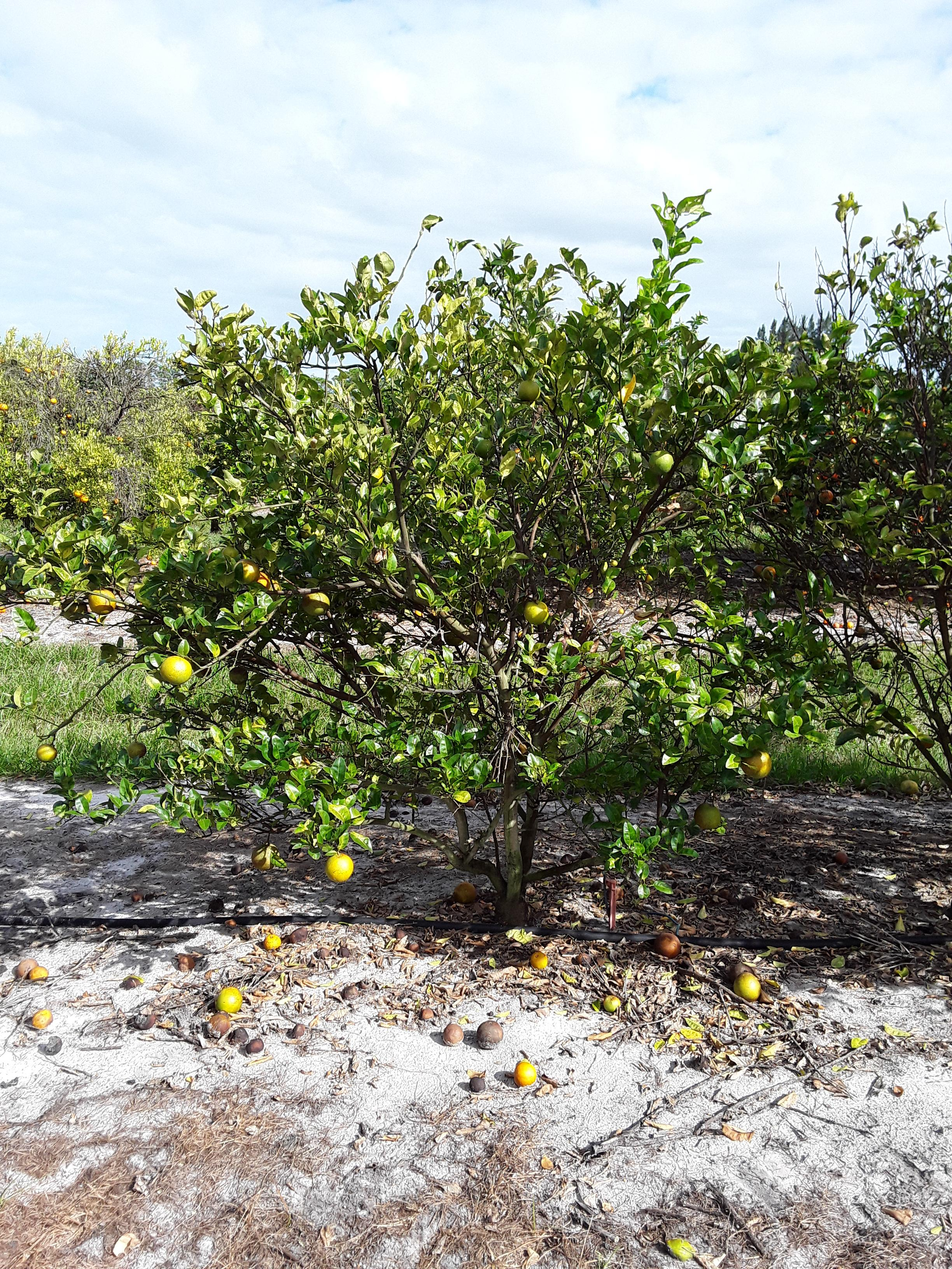fruit_on_ground: (323, 849, 359, 885), (691, 797, 725, 834), (161, 650, 190, 689), (298, 588, 332, 618), (742, 745, 771, 780), (87, 586, 119, 617), (520, 596, 552, 626), (248, 845, 278, 874), (646, 449, 677, 477), (261, 572, 284, 607), (513, 380, 544, 404), (225, 663, 254, 686), (252, 565, 273, 594), (241, 556, 262, 584), (472, 437, 499, 458), (290, 754, 315, 775), (36, 743, 61, 763), (126, 741, 151, 758), (761, 564, 781, 585), (371, 468, 388, 488), (852, 624, 870, 639), (818, 489, 836, 503), (920, 736, 935, 750), (780, 504, 793, 519), (870, 659, 885, 672), (768, 493, 784, 505), (80, 491, 92, 506), (819, 427, 832, 440), (812, 506, 824, 520), (830, 468, 841, 483), (800, 456, 818, 465), (919, 419, 931, 432), (784, 486, 797, 498), (73, 489, 86, 501), (797, 431, 811, 442), (874, 457, 888, 468), (821, 470, 835, 481), (849, 435, 860, 448), (858, 405, 868, 414)
fruit_on_tree: (474, 1016, 506, 1052), (732, 968, 762, 1006), (452, 881, 481, 908), (217, 989, 242, 1019), (205, 1014, 234, 1038), (40, 1032, 65, 1058), (442, 1021, 465, 1049), (662, 930, 684, 958), (516, 1060, 537, 1088), (598, 990, 620, 1016), (132, 1011, 160, 1029), (529, 947, 549, 972), (174, 951, 194, 975), (467, 1074, 488, 1096), (898, 778, 923, 796), (245, 1036, 266, 1057), (265, 933, 284, 956), (227, 1026, 250, 1045), (120, 974, 144, 992), (206, 893, 225, 915), (289, 923, 309, 943), (30, 960, 48, 982), (577, 950, 597, 969), (418, 1006, 438, 1025), (33, 1009, 50, 1031), (343, 983, 361, 1003), (392, 925, 410, 943), (462, 792, 479, 811), (833, 849, 849, 868), (228, 861, 247, 877), (338, 942, 352, 963), (292, 1020, 307, 1038), (316, 945, 331, 960), (224, 918, 238, 934), (409, 938, 421, 956), (131, 892, 142, 904), (906, 592, 916, 603), (847, 618, 856, 630), (832, 621, 841, 631), (819, 606, 828, 615), (822, 616, 832, 624)
